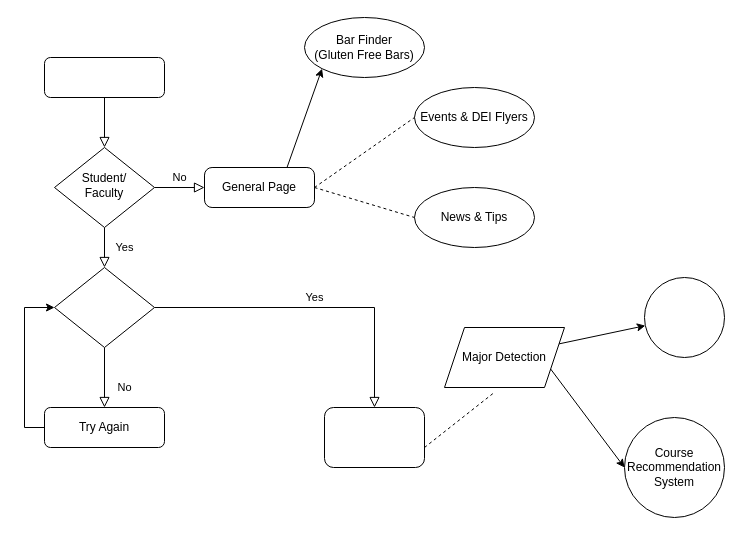
This 742x535 diagram has some shape labels left out. The centre of each missing label's shape, as x and y in pixels:
Dashboard: point 374,437
Login: point 104,307
Study Group Finder: point 684,317
The Platform: point 104,77
